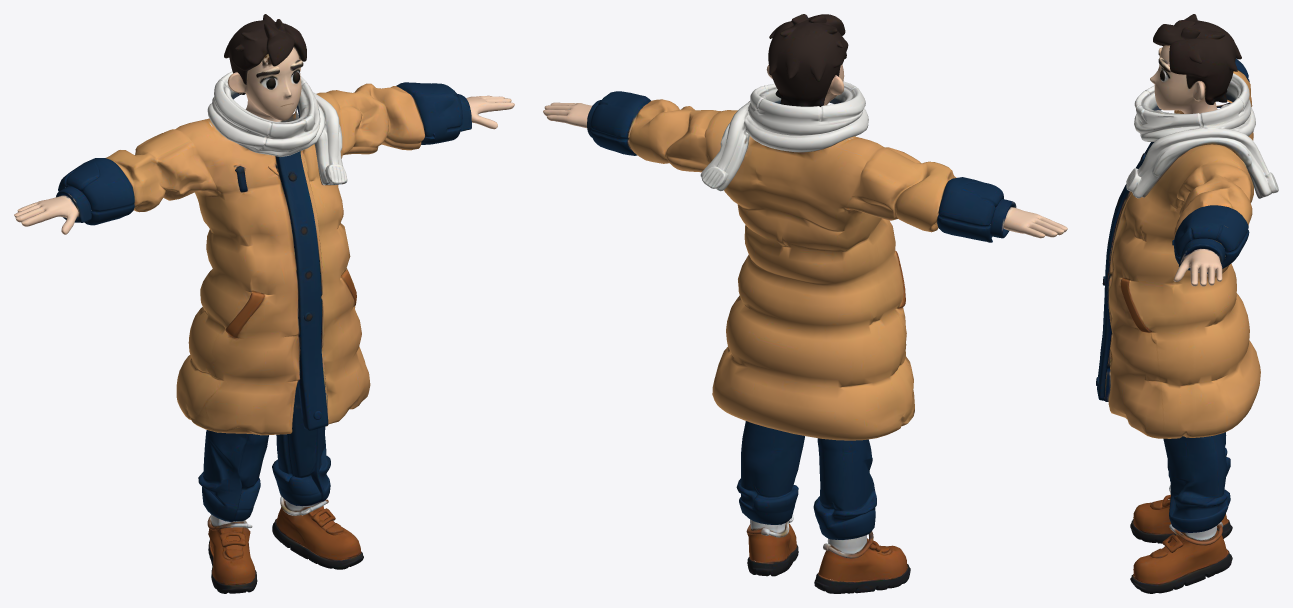
The model's file is toonstudio_winter_coat.glb.
3 renders of one model, left to right at view 1: azimuth 30°, elevation 25°; view 2: azimuth 150°, elevation 25°; view 3: azimuth 270°, elevation 25°, orthographic. The views are drawn at different scales.
Parts seen in each view (by area): view 1: f7af4738_e551_45a4_91ce_129c95eb695b; view 2: f7af4738_e551_45a4_91ce_129c95eb695b; view 3: f7af4738_e551_45a4_91ce_129c95eb695b.
Boxes of the visible parts, box(x1,y1,x2,y2) form: f7af4738_e551_45a4_91ce_129c95eb695b: box(14, 14, 514, 593); f7af4738_e551_45a4_91ce_129c95eb695b: box(543, 14, 1067, 593); f7af4738_e551_45a4_91ce_129c95eb695b: box(1096, 14, 1278, 593).
Bounding box in the file's own units: 1.64 × 1.7 × 0.524.
Materials: 1 (1 with a texture image).
